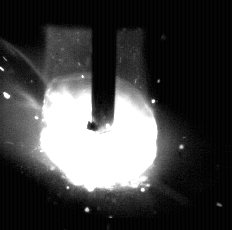arame: (89, 0, 117, 133)
poca: (39, 0, 159, 230)
